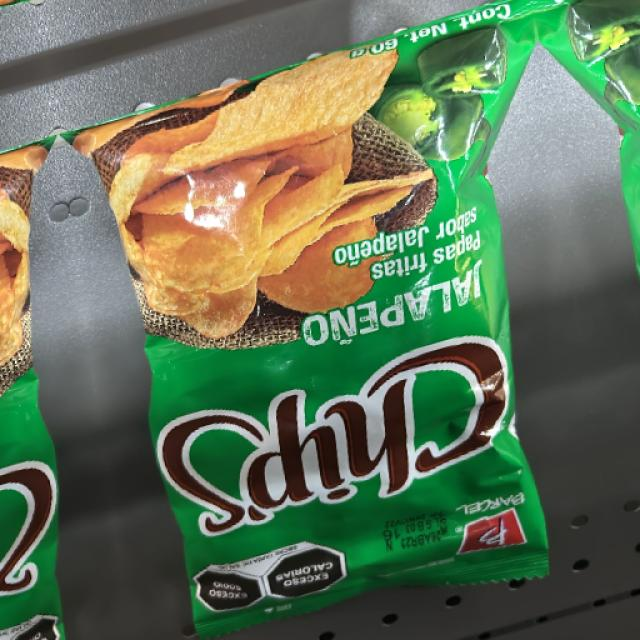chipsJalapeno: (149, 40, 524, 563)
